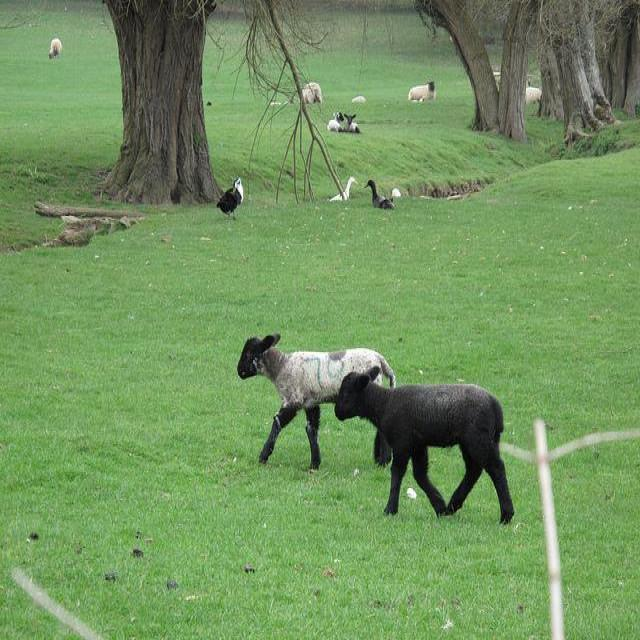Sheep: (335, 372, 517, 532), (237, 333, 395, 471)
